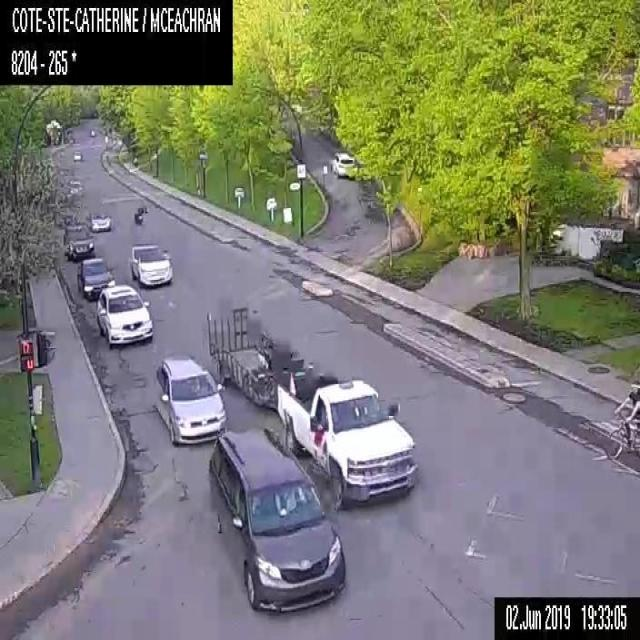cyclist: (606, 380, 639, 460)
vehicle: (205, 305, 418, 509), (208, 427, 346, 609), (152, 352, 228, 446), (96, 282, 152, 344), (130, 242, 172, 286), (77, 256, 115, 299), (63, 223, 94, 260), (330, 148, 355, 176), (90, 210, 110, 230), (133, 204, 147, 224), (73, 150, 81, 160)
